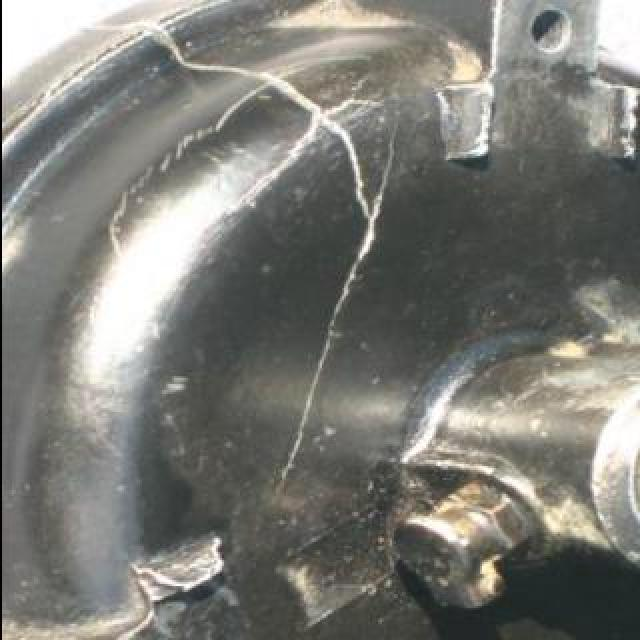crack: (72, 21, 394, 509)
